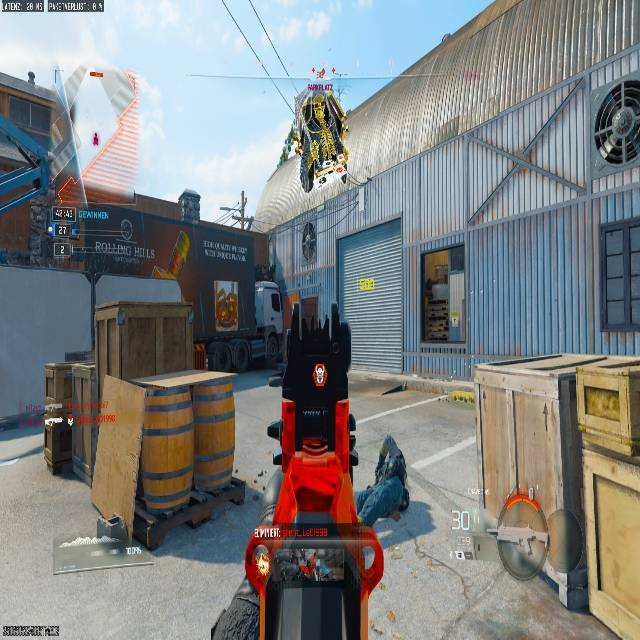player: (286, 78, 349, 190)
